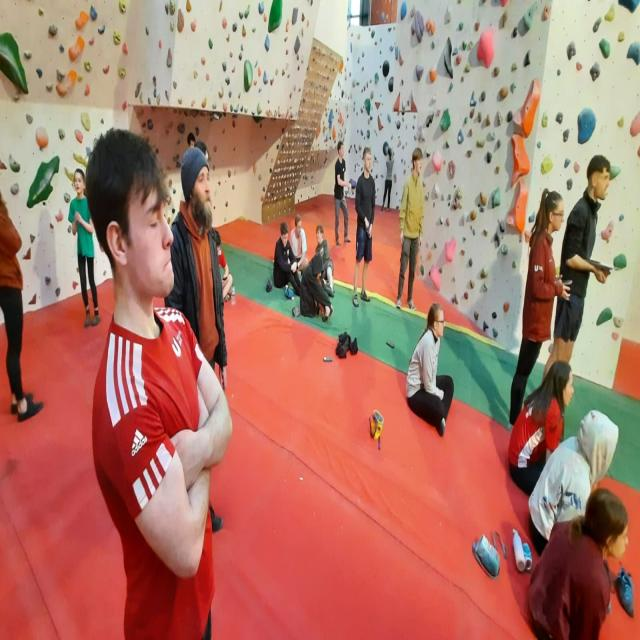Crimp: (7, 154, 24, 176)
Pocket: (414, 10, 425, 45), (112, 28, 122, 48), (118, 0, 130, 14), (455, 130, 466, 144), (469, 92, 478, 109)
Sloper: (609, 332, 640, 410), (25, 154, 63, 212), (0, 30, 30, 100), (515, 74, 545, 141), (508, 133, 534, 179), (476, 23, 498, 74), (577, 105, 600, 146), (56, 70, 81, 100), (265, 0, 284, 36), (65, 33, 87, 63), (592, 305, 615, 329), (443, 37, 455, 82), (243, 57, 255, 99), (537, 156, 554, 180), (445, 234, 458, 265), (34, 126, 49, 152), (441, 106, 455, 133), (74, 6, 88, 32), (625, 42, 640, 64), (431, 150, 443, 177), (430, 264, 441, 290), (291, 3, 299, 29), (416, 64, 423, 82), (294, 35, 300, 55)
